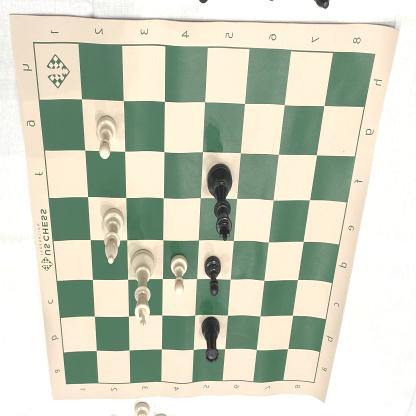black-king: (205, 159, 236, 243)
black-pawn: (203, 252, 222, 296)
black-rook: (199, 314, 222, 365)
white-bishop: (99, 207, 126, 266)
white-king: (131, 246, 156, 328)
white-pawn: (96, 113, 118, 162), (169, 252, 189, 298)
